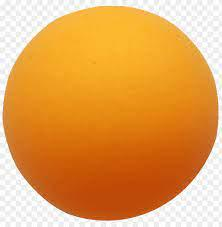oball: (3, 7, 218, 222)
